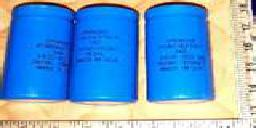Electrolytic-capacitor: (143, 4, 219, 105), (70, 1, 139, 109), (3, 2, 74, 106)
